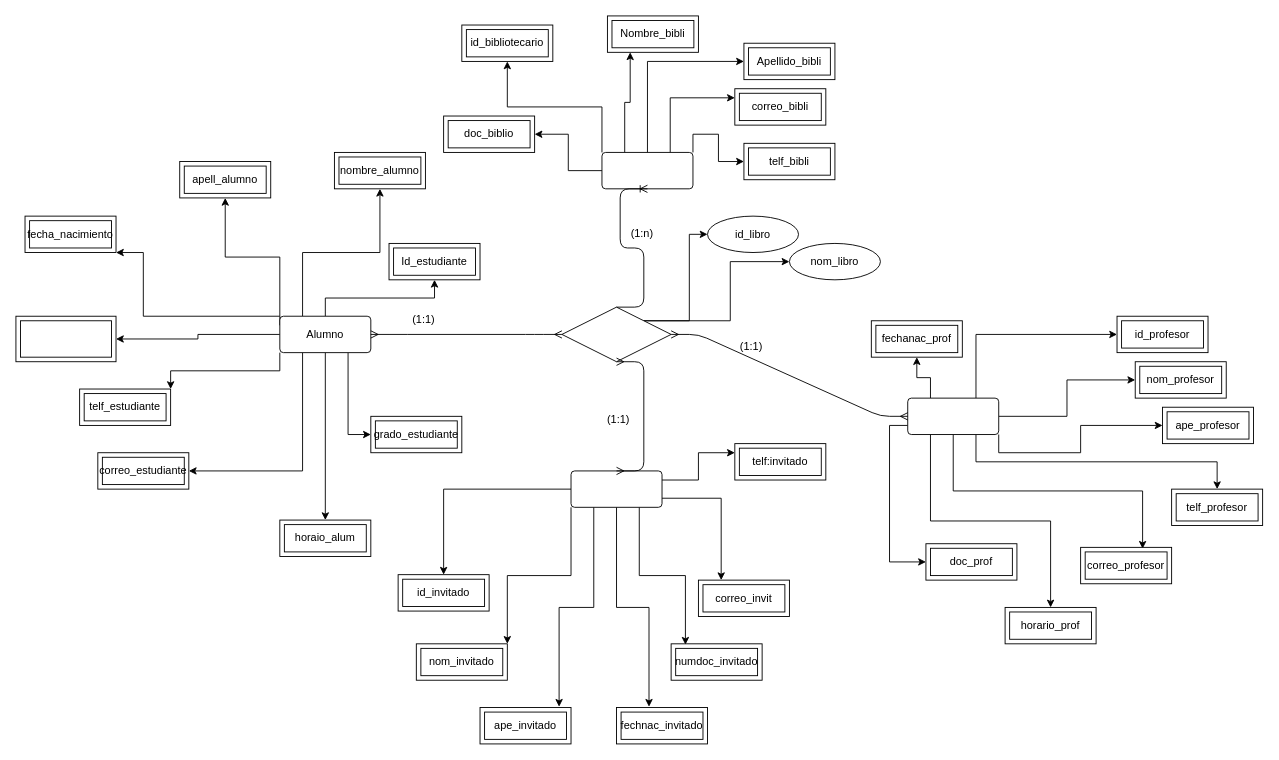
This 1279x760 diagram has some shape labels left out. Each missing label, with the centre of its shape:
Bibliotecario: pixel 647 170
Invitado: pixel 616 488
libros: pixel 616 334
numero_documento: pixel 65 338
Profesor: pixel 953 416
